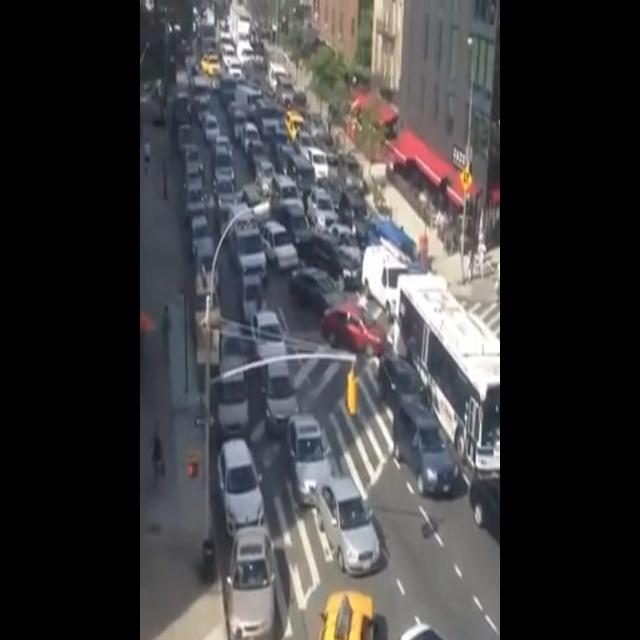Ambulance: (222, 199, 272, 286)
